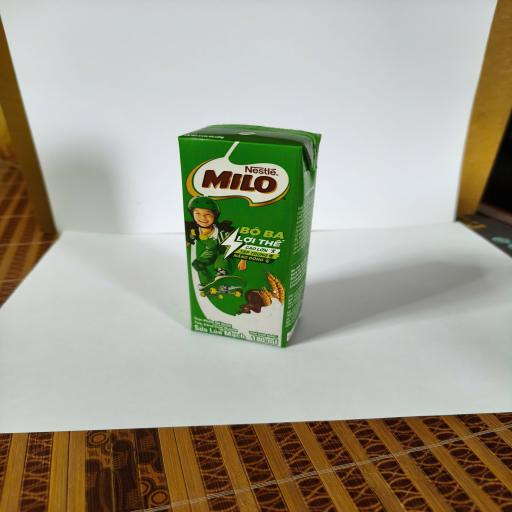milo: (178, 124, 322, 348)
